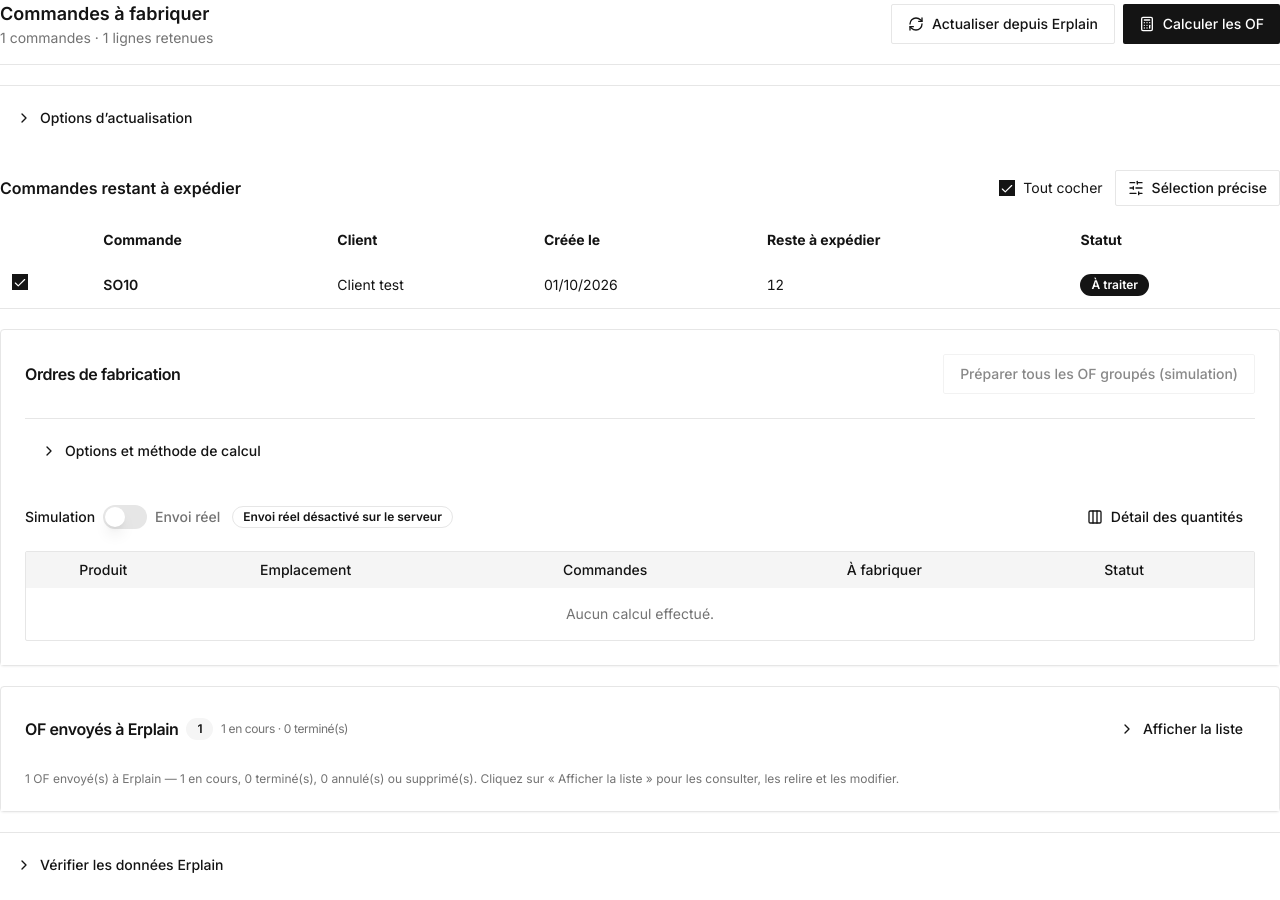
Test: Workshop order columns › preserves an explicit empty selection and does not fall back to all orders
expect the text "Client test" is shown: met, box [325,262,532,308]
Click the checkbox named "Sélectionner SO10" at (20, 282), box [12,274,28,290]
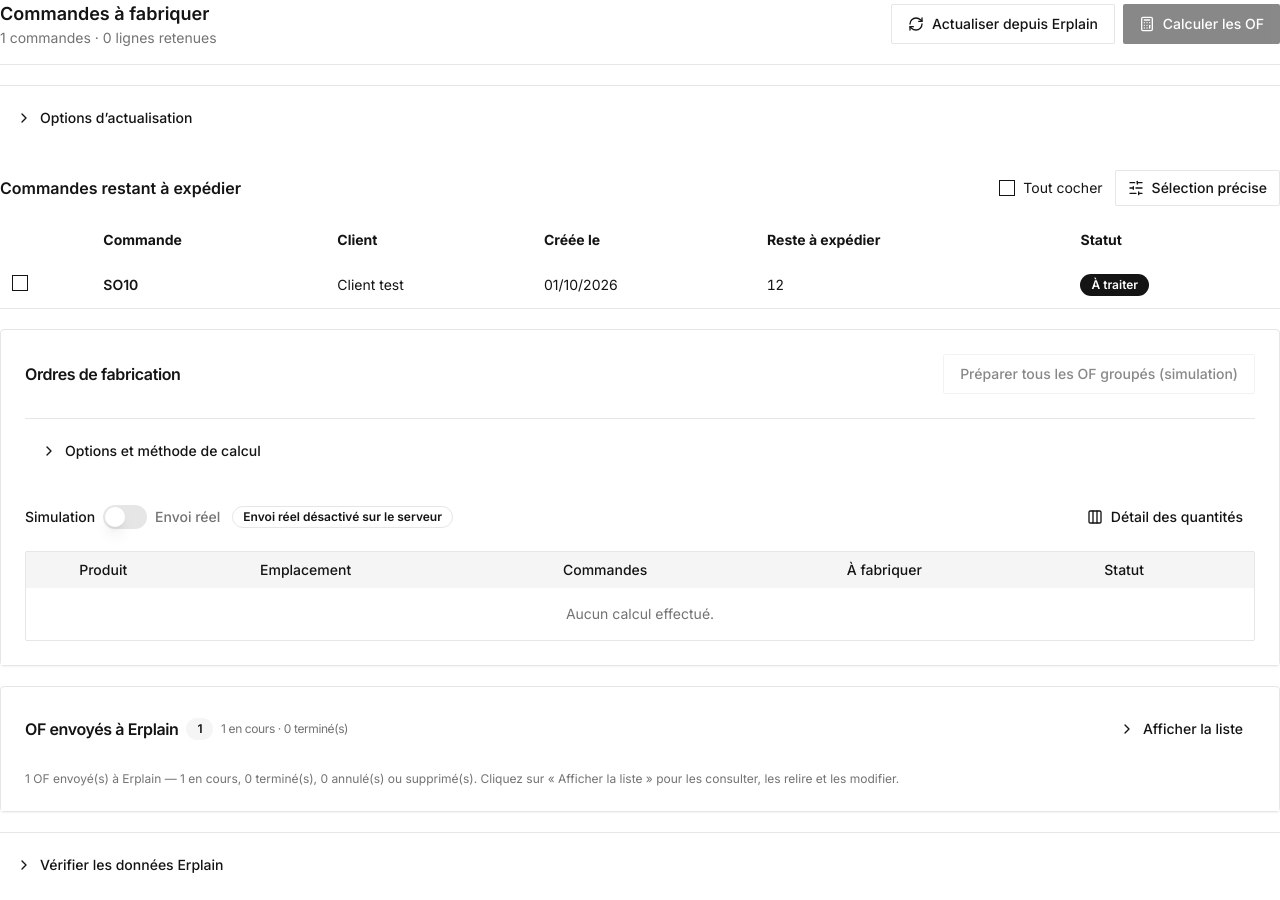
expect the button "Calculer les OF" is disabled: met, box [1123,4,1279,44]
Click the button "Sélection précise" at (1197, 188), box [1115,170,1279,206]
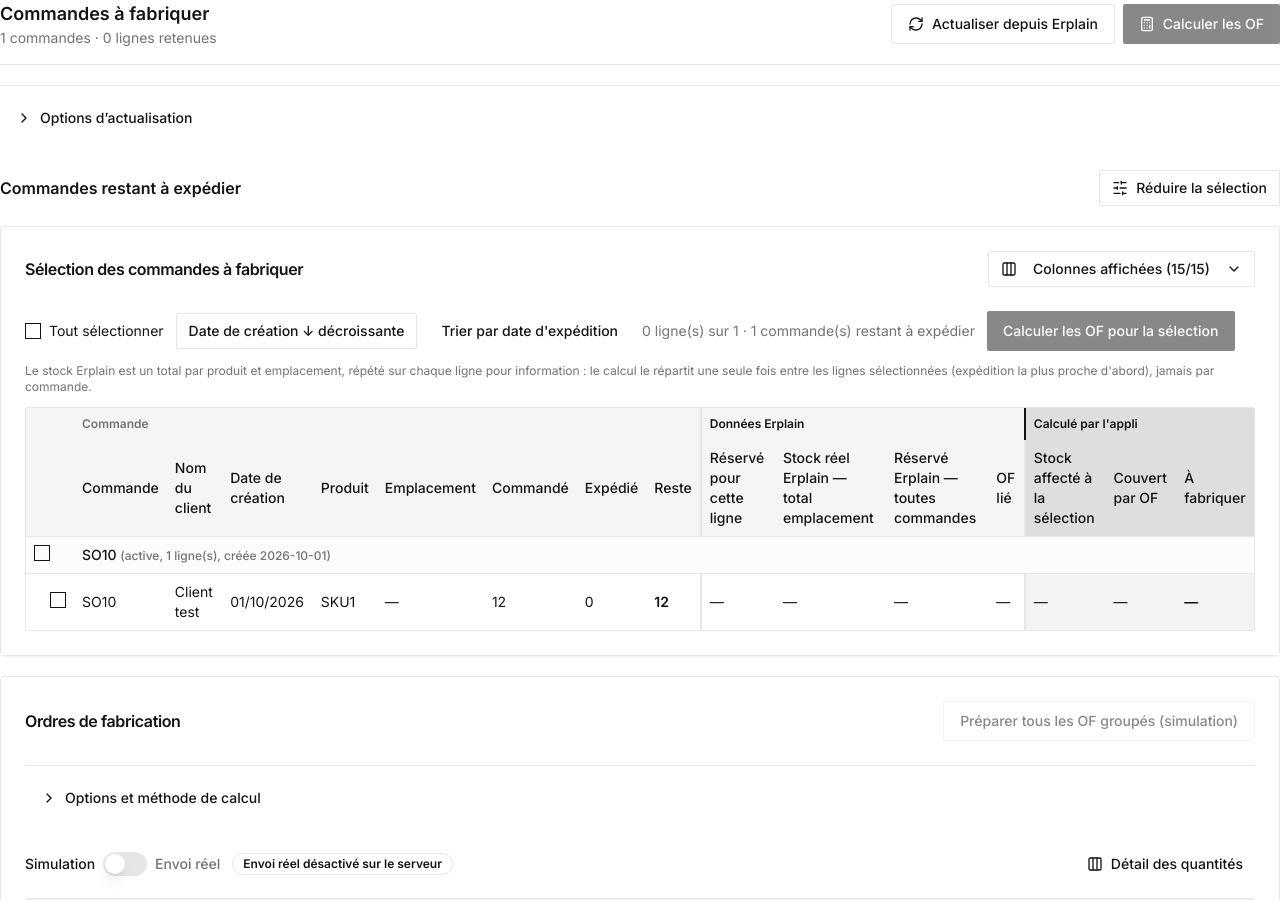
expect the button "Calculer les OF pour la sélection" is disabled: met, box [987,311,1234,351]
